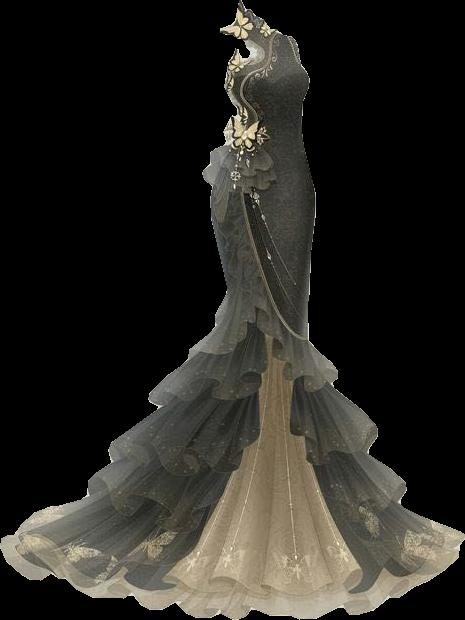Bodice: (220, 0, 309, 147)
Hemline: (0, 537, 464, 619), (182, 305, 338, 393), (239, 151, 309, 344), (107, 395, 259, 482), (81, 470, 239, 534), (280, 387, 379, 466), (150, 350, 272, 408), (308, 462, 408, 525)
Neckline: (238, 0, 268, 25)
Skirt: (0, 148, 464, 619)
